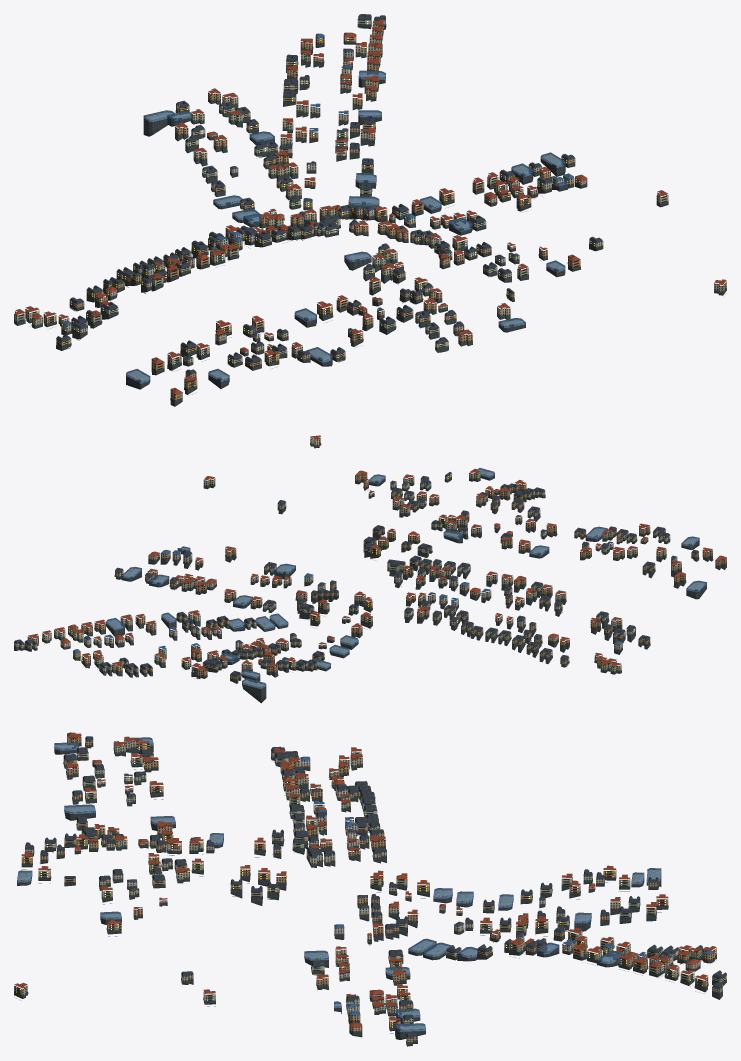
Rendered from osm_buildings_T_E00_N02_Q1.glb.
3 views of the same model, one above another, from view 1: azimuth 30°, elevation 25°; view 2: azimuth 150°, elevation 25°; view 3: azimuth 270°, elevation 25° (orthographic). The views are drawn at different scales.
Parts seen in each view (by area): view 1: OSM_T_E00_N02_Q1_foundation, OSM_T_E00_N02_Q1_wall_cream_stucco, OSM_T_E00_N02_Q1_wall_french_ochre, OSM_T_E00_N02_Q1_roof_terracotta, OSM_T_E00_N02_Q1_roof_mansard_slate, OSM_T_E00_N02_Q1_greenhouse_blend, OSM_T_E00_N02_Q1_roof_mansard_deck, OSM_T_E00_N02_Q1_roof_mint_metal, OSM_T_E00_N02_Q1_trim_cornice, OSM_T_E00_N02_Q1_balcony_railing, OSM_T_E00_N02_Q1_wall_warm_white, OSM_T_E00_N02_Q1_window_emissive_warm (+1 smaller); view 2: OSM_T_E00_N02_Q1_foundation, OSM_T_E00_N02_Q1_wall_french_ochre, OSM_T_E00_N02_Q1_wall_cream_stucco, OSM_T_E00_N02_Q1_roof_terracotta, OSM_T_E00_N02_Q1_roof_mansard_slate, OSM_T_E00_N02_Q1_greenhouse_blend, OSM_T_E00_N02_Q1_roof_mansard_deck, OSM_T_E00_N02_Q1_roof_mint_metal, OSM_T_E00_N02_Q1_trim_cornice, OSM_T_E00_N02_Q1_wall_warm_white, OSM_T_E00_N02_Q1_wall_pastel_sand, OSM_T_E00_N02_Q1_balcony_railing (+1 smaller); view 3: OSM_T_E00_N02_Q1_foundation, OSM_T_E00_N02_Q1_wall_cream_stucco, OSM_T_E00_N02_Q1_wall_french_ochre, OSM_T_E00_N02_Q1_roof_terracotta, OSM_T_E00_N02_Q1_roof_mansard_slate, OSM_T_E00_N02_Q1_greenhouse_blend, OSM_T_E00_N02_Q1_roof_mansard_deck, OSM_T_E00_N02_Q1_trim_cornice, OSM_T_E00_N02_Q1_roof_mint_metal, OSM_T_E00_N02_Q1_balcony_railing, OSM_T_E00_N02_Q1_wall_warm_white, OSM_T_E00_N02_Q1_window_emissive_warm (+1 smaller).
Part boxes in pixels (x1,y1,x2,y2): OSM_T_E00_N02_Q1_foundation: (14,21,726,406); OSM_T_E00_N02_Q1_wall_cream_stucco: (14,17,726,364); OSM_T_E00_N02_Q1_wall_french_ochre: (43,23,580,400); OSM_T_E00_N02_Q1_roof_terracotta: (14,19,726,394); OSM_T_E00_N02_Q1_roof_mansard_slate: (56,14,602,374); OSM_T_E00_N02_Q1_greenhouse_blend: (126,70,567,383); OSM_T_E00_N02_Q1_roof_mansard_deck: (58,14,601,382); OSM_T_E00_N02_Q1_roof_mint_metal: (14,24,726,404); OSM_T_E00_N02_Q1_trim_cornice: (17,16,722,397); OSM_T_E00_N02_Q1_balcony_railing: (23,27,726,386); OSM_T_E00_N02_Q1_wall_warm_white: (142,68,515,350); OSM_T_E00_N02_Q1_window_emissive_warm: (31,23,725,383); OSM_T_E00_N02_Q1_foundation: (14,443,726,703); OSM_T_E00_N02_Q1_wall_french_ochre: (27,473,726,680); OSM_T_E00_N02_Q1_wall_cream_stucco: (14,437,681,673); OSM_T_E00_N02_Q1_roof_terracotta: (28,435,726,670); OSM_T_E00_N02_Q1_roof_mansard_slate: (14,472,698,676); OSM_T_E00_N02_Q1_greenhouse_blend: (106,468,706,689); OSM_T_E00_N02_Q1_roof_mansard_deck: (15,472,705,688); OSM_T_E00_N02_Q1_roof_mint_metal: (15,444,723,681); OSM_T_E00_N02_Q1_trim_cornice: (16,437,723,678); OSM_T_E00_N02_Q1_wall_warm_white: (104,483,622,648); OSM_T_E00_N02_Q1_wall_pastel_sand: (60,545,622,661); OSM_T_E00_N02_Q1_balcony_railing: (29,438,711,671); OSM_T_E00_N02_Q1_foundation: (14,741,726,1046); OSM_T_E00_N02_Q1_wall_cream_stucco: (14,738,726,1031); OSM_T_E00_N02_Q1_wall_french_ochre: (21,734,716,1042); OSM_T_E00_N02_Q1_roof_terracotta: (14,732,716,1027); OSM_T_E00_N02_Q1_roof_mansard_slate: (25,736,726,1038); OSM_T_E00_N02_Q1_greenhouse_blend: (17,737,661,1031); OSM_T_E00_N02_Q1_roof_mansard_deck: (17,736,725,1035); OSM_T_E00_N02_Q1_trim_cornice: (14,737,723,1040); OSM_T_E00_N02_Q1_roof_mint_metal: (14,744,726,1043); OSM_T_E00_N02_Q1_balcony_railing: (15,739,715,1026); OSM_T_E00_N02_Q1_wall_warm_white: (97,775,647,978); OSM_T_E00_N02_Q1_window_emissive_warm: (16,745,715,1027).
Size of the model in its own units: 933 by 110 by 988.
16 materials, 16 textured.
